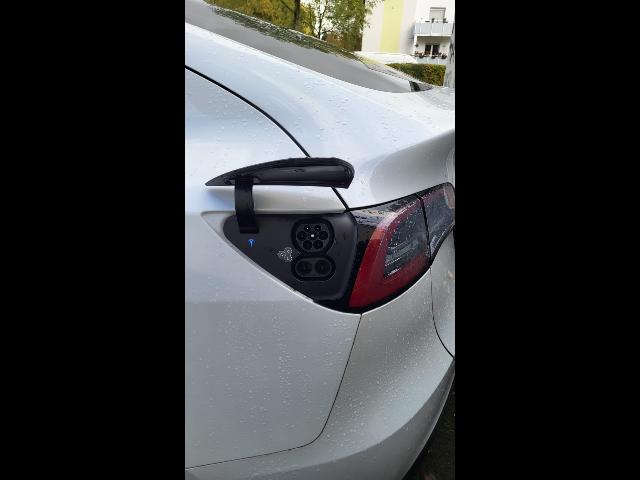inlet: (296, 223, 329, 252)
inlet-above-left: (304, 225, 311, 232)
inlet-above-right: (314, 225, 321, 232)
inlet-below-right: (313, 240, 323, 250)
inlet-circle: (308, 231, 318, 240)
inlet-circle-left: (297, 231, 307, 241)
inlet-circle-right: (318, 231, 328, 240)
inlet-minus: (315, 260, 330, 275)
inlet-plus: (297, 260, 312, 276), (303, 240, 313, 250)
